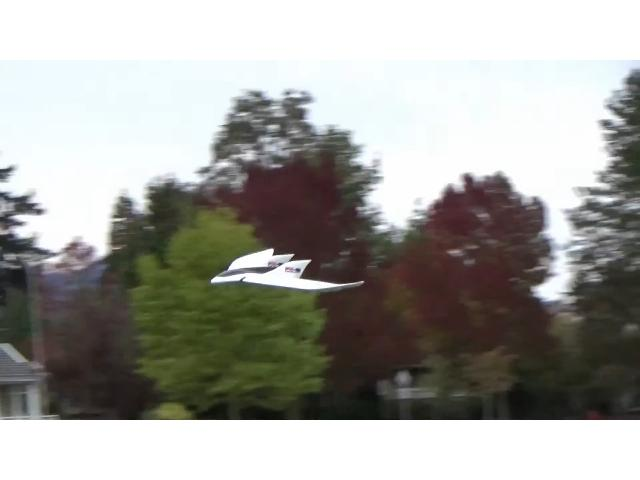Anti-Drone: (211, 248, 363, 293)
